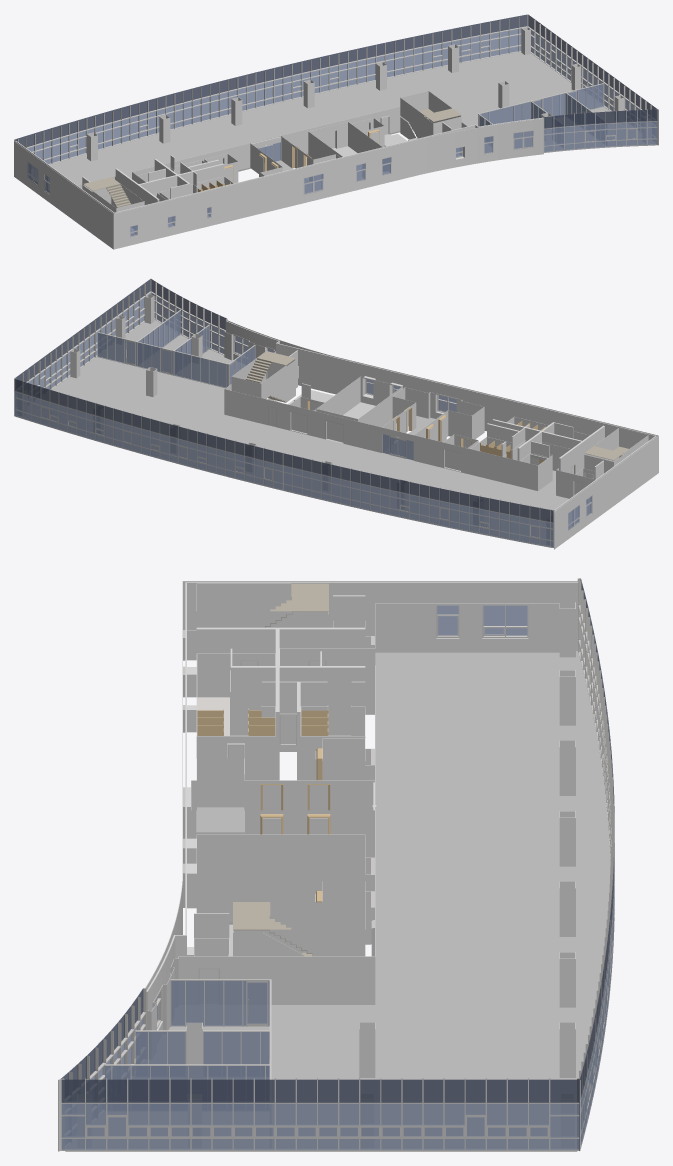
3 views of the same model, one above another, from view 1: azimuth 30°, elevation 25°; view 2: azimuth 150°, elevation 25°; view 3: azimuth 270°, elevation 25° (orthographic). The views are drawn at different scales.
Visible parts, largest first — view 1: A8_15F_Window, A8_15F_Floor, A8_15F_outWall, A8_15F_Wall, A8_15F_Pillar, A8_15F_Glass, A8_15F_Stairs, A8_15F_Frame, A8_15F_ELEV, A8_15F_Door, A8_15F_AutomaticDoor; view 2: A8_15F_Floor, A8_15F_Window, A8_15F_Wall, A8_15F_outWall, A8_15F_Glass, A8_15F_Pillar, A8_15F_Door, A8_15F_Frame, A8_15F_Stairs, A8_15F_AutomaticDoor, A8_15F_ELEV, A8_15F_GlassDoor; view 3: A8_15F_Floor, A8_15F_Wall, A8_15F_Window, A8_15F_Pillar, A8_15F_Glass, A8_15F_ELEV, A8_15F_Stairs, A8_15F_Frame, A8_15F_Door, A8_15F_Toilet, A8_15F_outWall, A8_15F_GlassDoor.
Boxes of the visible parts, x1,y1,x2,y2 form: A8_15F_Window: [14, 14, 658, 237]; A8_15F_Floor: [31, 52, 654, 191]; A8_15F_outWall: [14, 118, 543, 249]; A8_15F_Wall: [15, 91, 543, 235]; A8_15F_Pillar: [87, 27, 651, 161]; A8_15F_Glass: [478, 84, 602, 125]; A8_15F_Stairs: [83, 108, 461, 207]; A8_15F_Frame: [478, 83, 603, 126]; A8_15F_ELEV: [224, 129, 379, 182]; A8_15F_Door: [102, 115, 458, 203]; A8_15F_AutomaticDoor: [251, 136, 281, 163]; A8_15F_Floor: [25, 320, 587, 547]; A8_15F_Window: [14, 278, 591, 547]; A8_15F_Wall: [224, 321, 656, 527]; A8_15F_outWall: [227, 320, 658, 549]; A8_15F_Glass: [98, 311, 254, 387]; A8_15F_Pillar: [18, 294, 549, 544]; A8_15F_Door: [267, 369, 593, 495]; A8_15F_Frame: [97, 310, 255, 388]; A8_15F_Stairs: [245, 351, 628, 460]; A8_15F_AutomaticDoor: [381, 428, 413, 460]; A8_15F_ELEV: [307, 400, 471, 448]; A8_15F_GlassDoor: [126, 340, 563, 454]; A8_15F_Floor: [65, 651, 610, 1151]; A8_15F_Wall: [146, 582, 578, 1059]; A8_15F_Window: [58, 578, 614, 1151]; A8_15F_Pillar: [78, 602, 575, 1147]; A8_15F_Glass: [105, 981, 269, 1079]; A8_15F_ELEV: [260, 748, 330, 902]; A8_15F_Stairs: [233, 583, 328, 956]; A8_15F_Frame: [105, 979, 271, 1147]; A8_15F_Door: [198, 636, 374, 1004]; A8_15F_Toilet: [197, 708, 328, 735]; A8_15F_outWall: [145, 581, 577, 990]; A8_15F_GlassDoor: [247, 981, 269, 1063].
Bounding box in the file's own units: 61.96 × 4.3 × 29.02.
